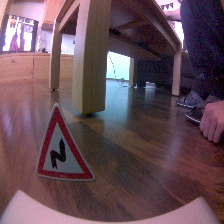vorsicht: (34, 103, 97, 183)
